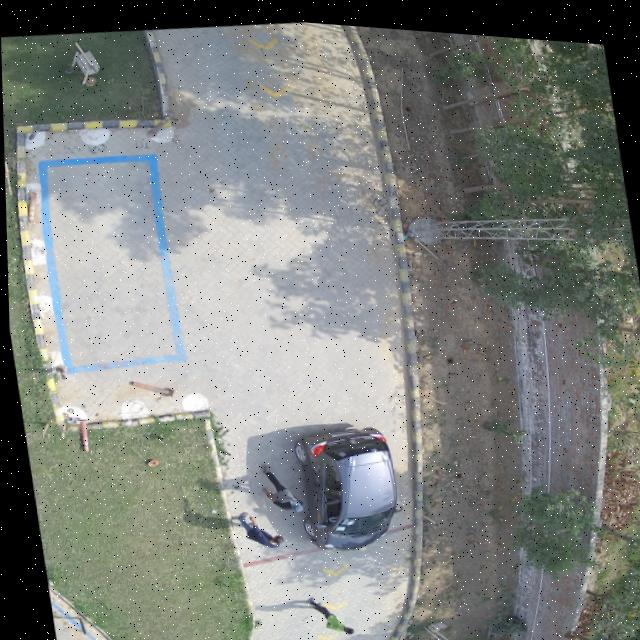car: (282, 421, 392, 544)
